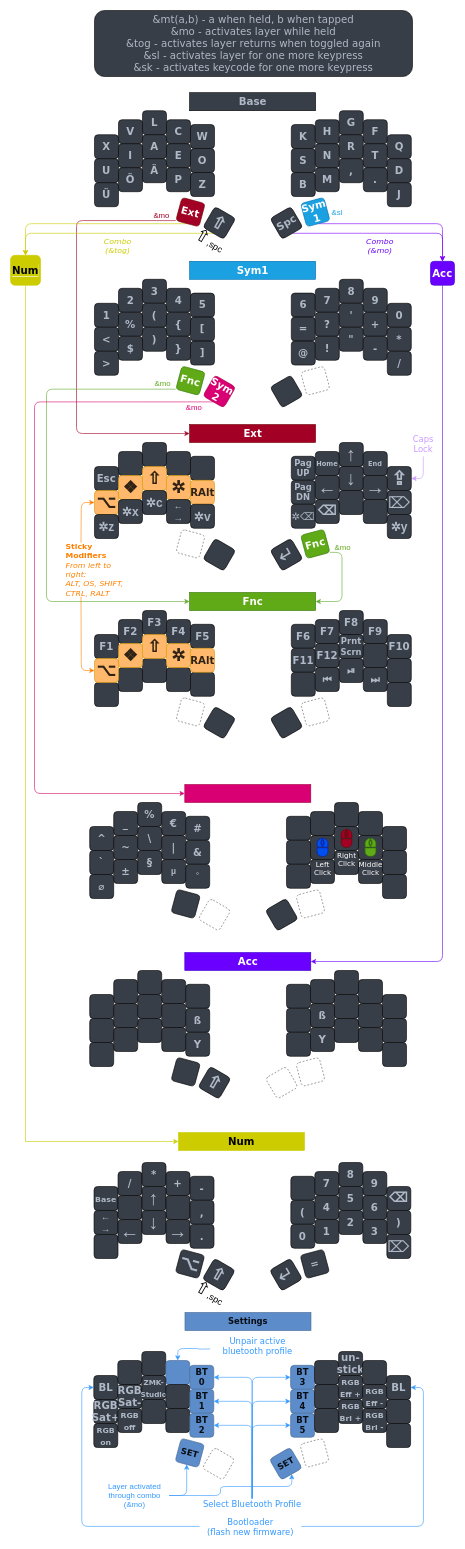
Image size: 465x1549. Some labels were removed from this diagram. Here are the shapes that lost their labels. From the top down, the centre of each, then its label:
point (247, 793): Sym2
point (177, 1372): BT CLR
